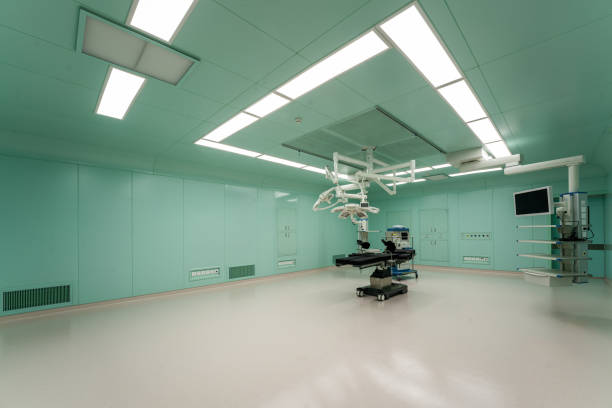bedside_monitor: (512, 185, 554, 217)
handle: (433, 236, 440, 250), (426, 237, 433, 249), (433, 222, 439, 235), (428, 222, 433, 235), (287, 224, 291, 233), (289, 233, 293, 241), (284, 224, 287, 233), (285, 233, 288, 241)
operating_bed: (334, 244, 416, 302)
surgical_light: (329, 206, 383, 219)
